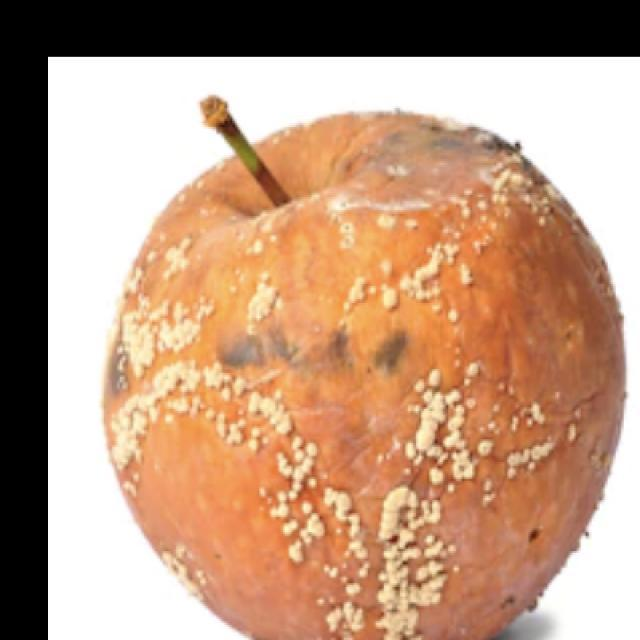Rotten: (118, 115, 640, 640)
